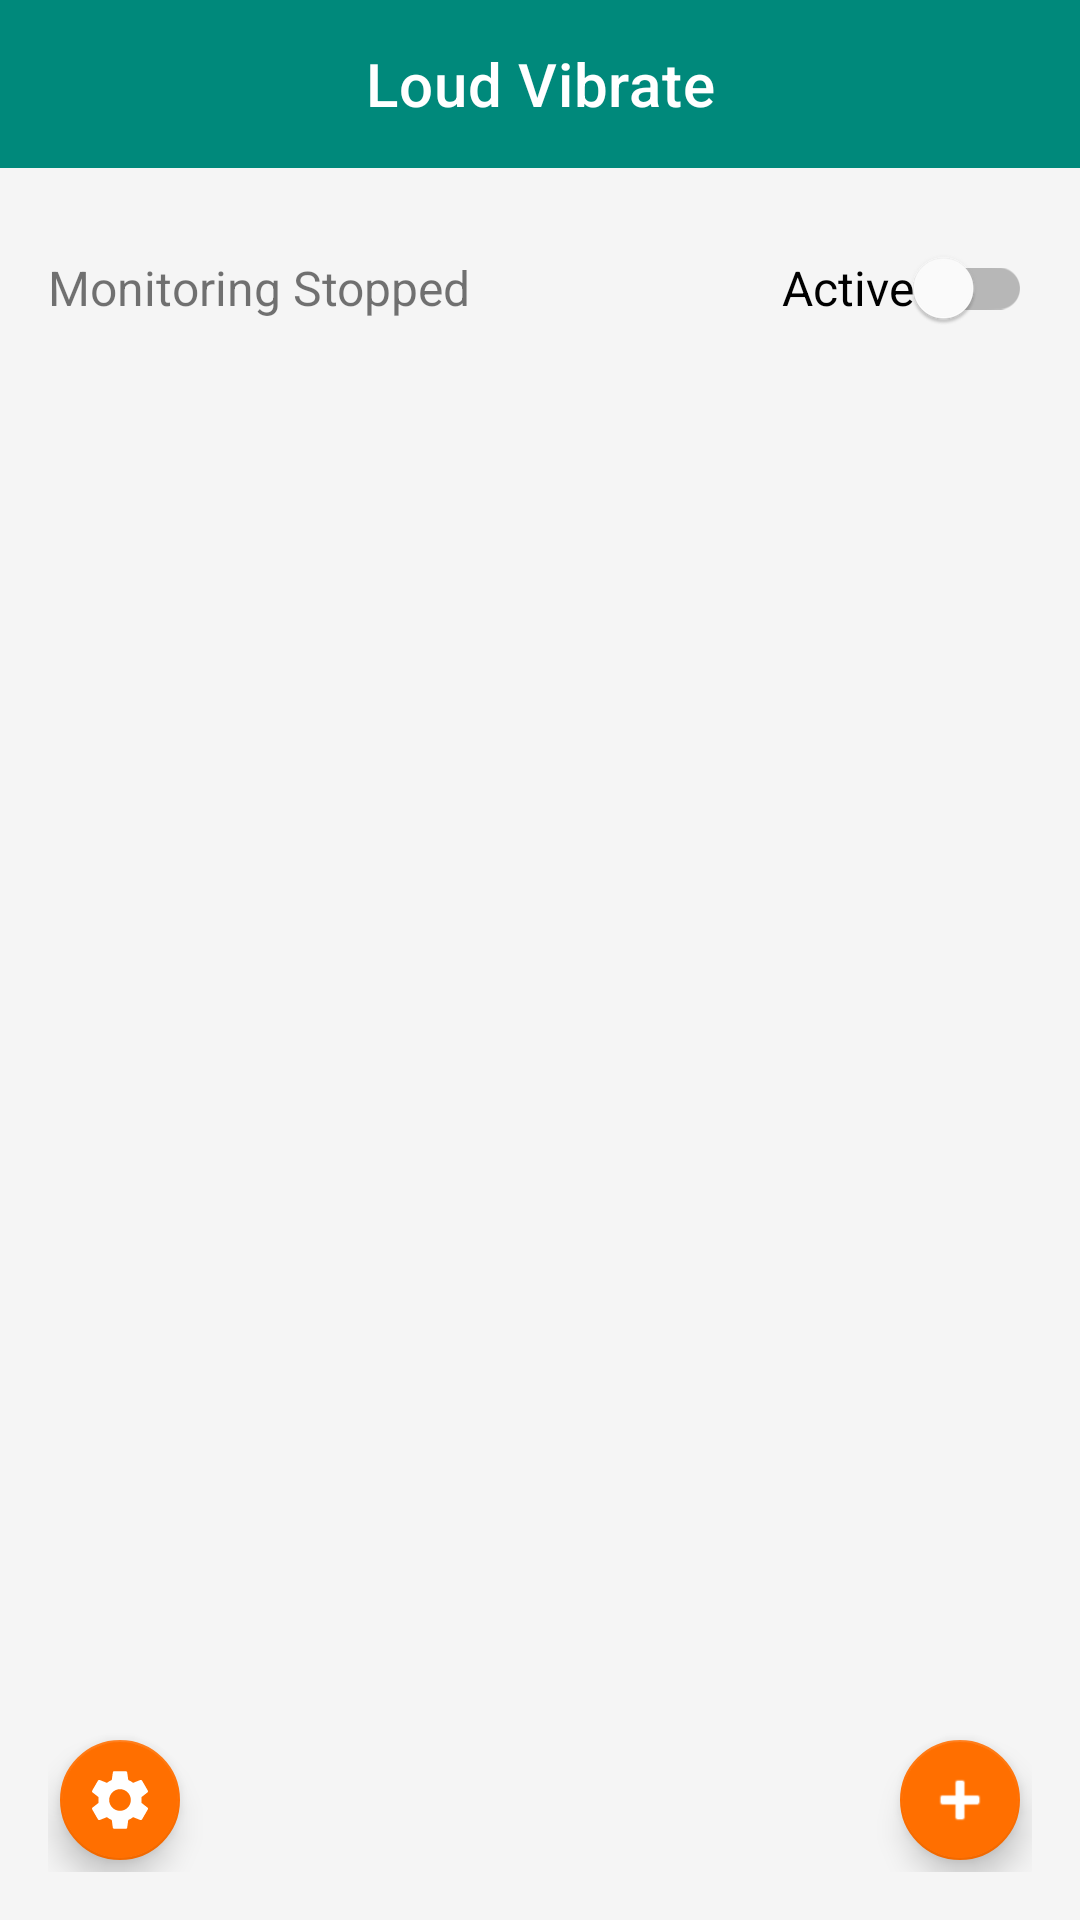

Where icons sit on this 1080px×1920px app screen, as box=[x1, y1, x2, y2]:
add: box=[900, 1740, 1022, 1872]
gear: box=[59, 1740, 180, 1872]
